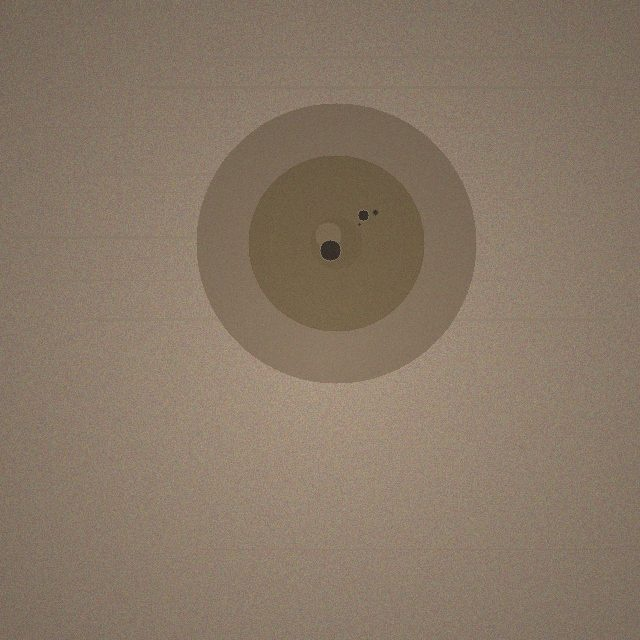shrinkage: (196, 103, 476, 383)
